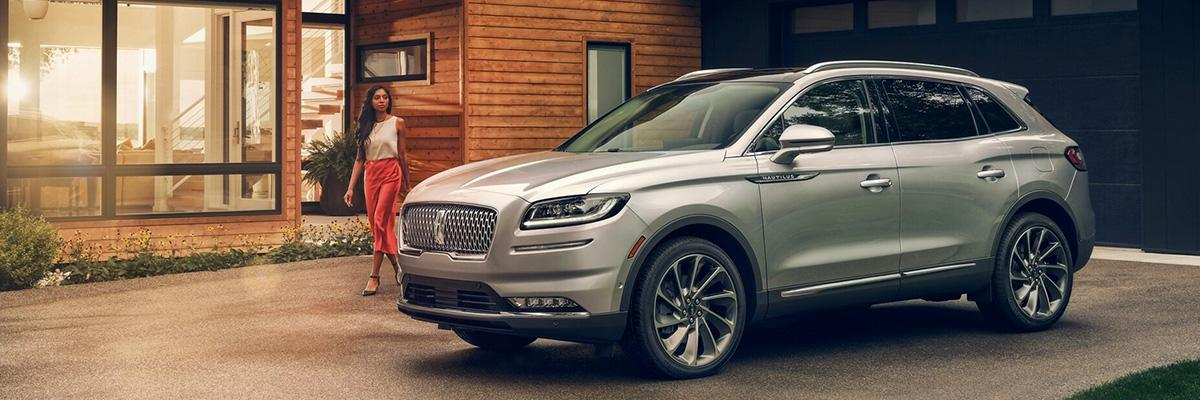lincoln: (431, 208, 448, 246)
